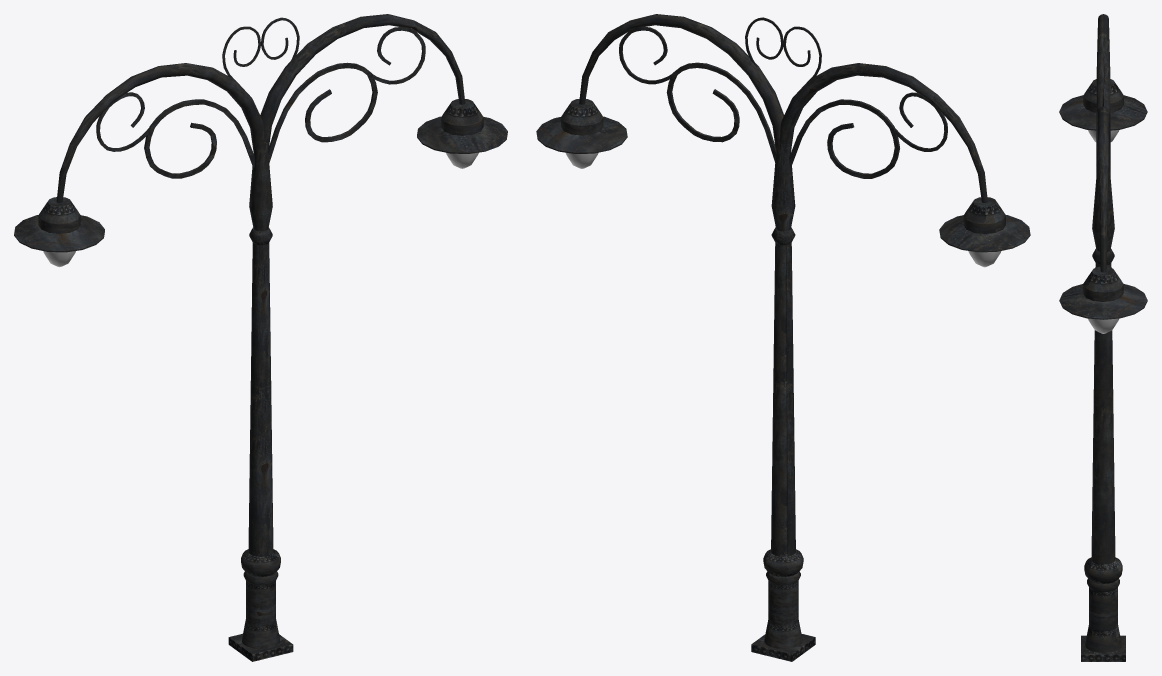
The model's file is streetlight_ground_double.DAE.
The picture shows the model from 3 angles, left to right: view 1: azimuth 30°, elevation 25°; view 2: azimuth 150°, elevation 25°; view 3: azimuth 270°, elevation 25°; orthographic projection. The views are drawn at different scales.
Visible parts, largest first — view 1: Box015, Cylinder007; view 2: Box015, Cylinder007; view 3: Box015, Cylinder007.
Boxes of the visible parts, x1,y1,x2,y2 form: Box015: (14,14,507,661); Cylinder007: (43,152,478,267); Box015: (536,14,1030,661); Cylinder007: (565,152,1001,267); Box015: (1059,14,1147,661); Cylinder007: (1088,130,1119,333).
Size of the model in its own units: 4.13 by 5.12 by 0.6823.
